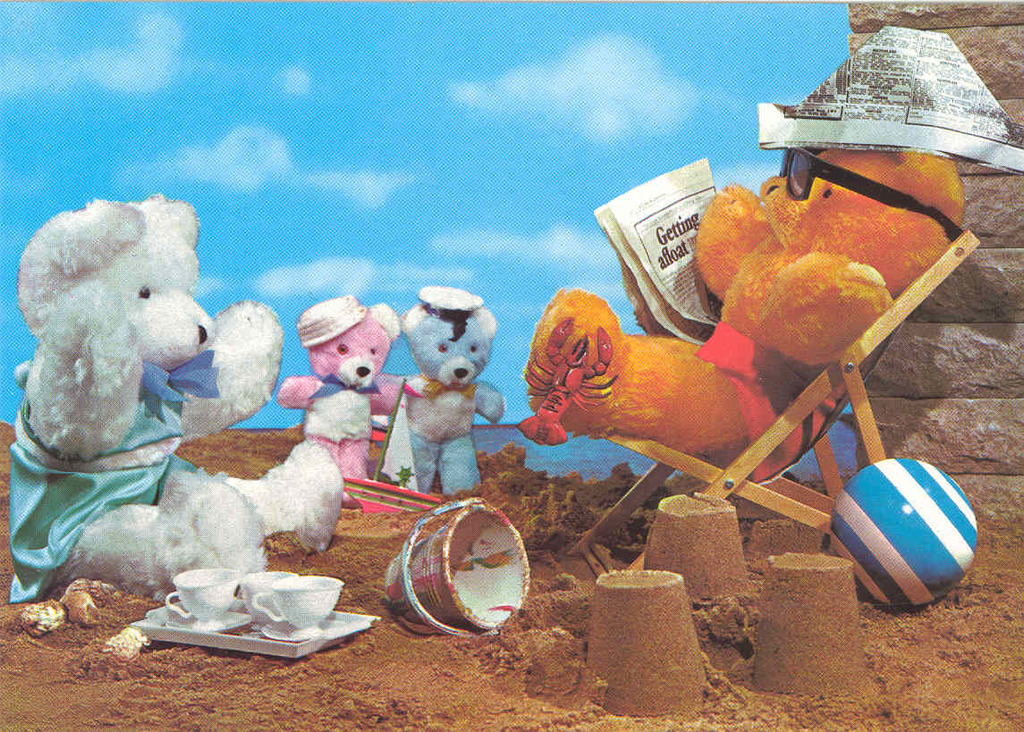Ball: (830, 460, 977, 606)
